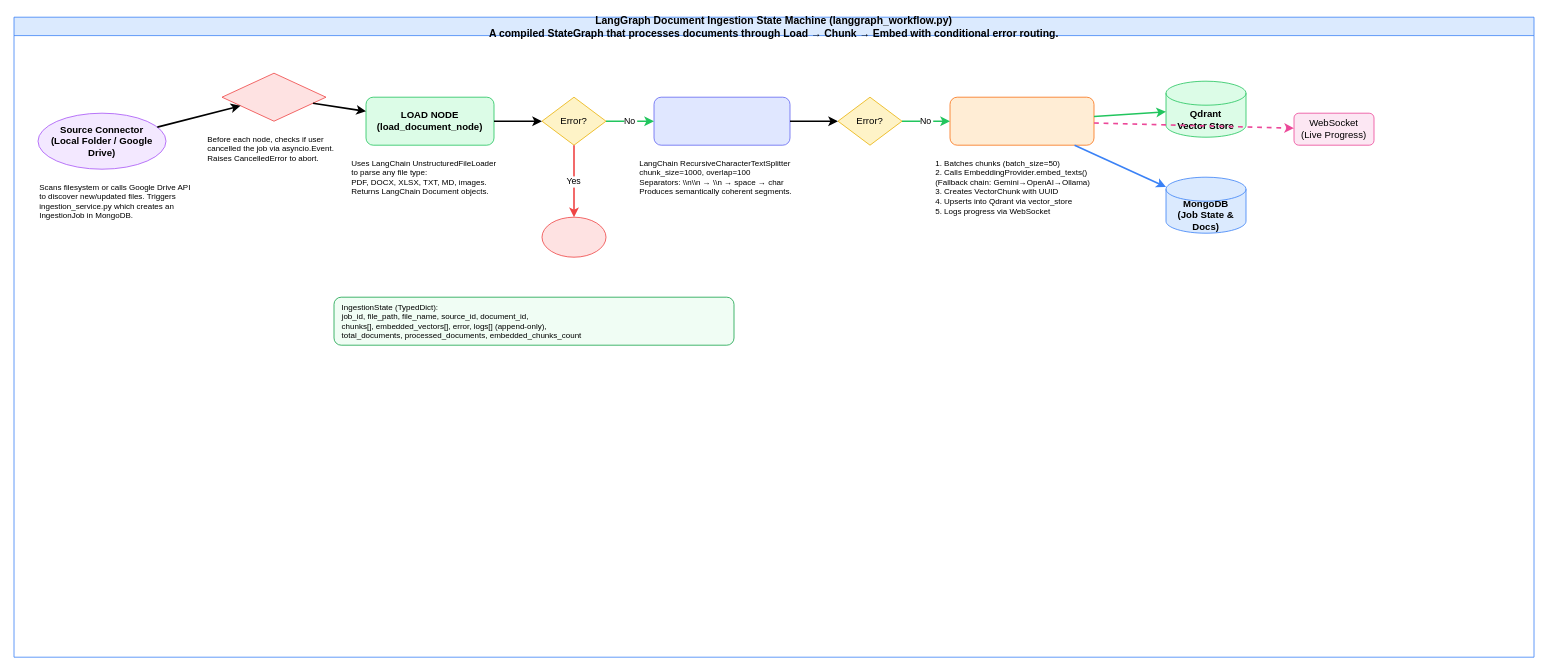
Some shapes in this 1548 by 671 pixel diagram are drawn without their labels. Each missing label, with the centre of its shape:
"Cancellation Check (cancellation.py)" belongs at (273,96).
"CHUNK NODE (chunk_document_node)" belongs at (721,120).
"EMBED & INDEX NODE (EmbedNodeFactory)" belongs at (1021,120).
"END (Error State)" belongs at (573,236).
